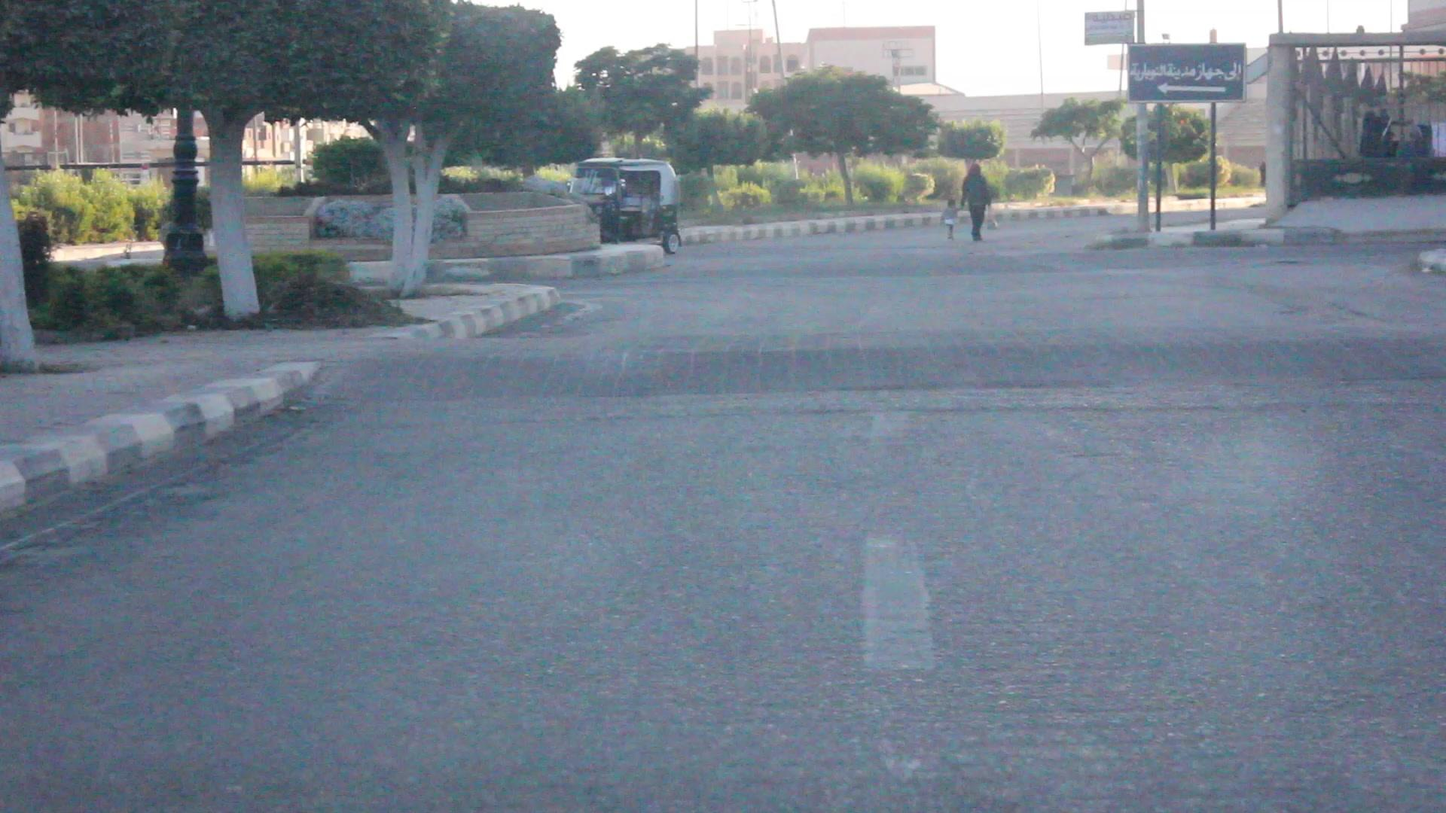Bump: (314, 319, 1445, 421)
